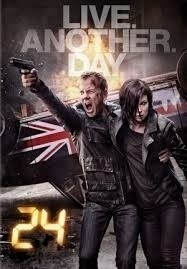pistol: (7, 53, 35, 77)
